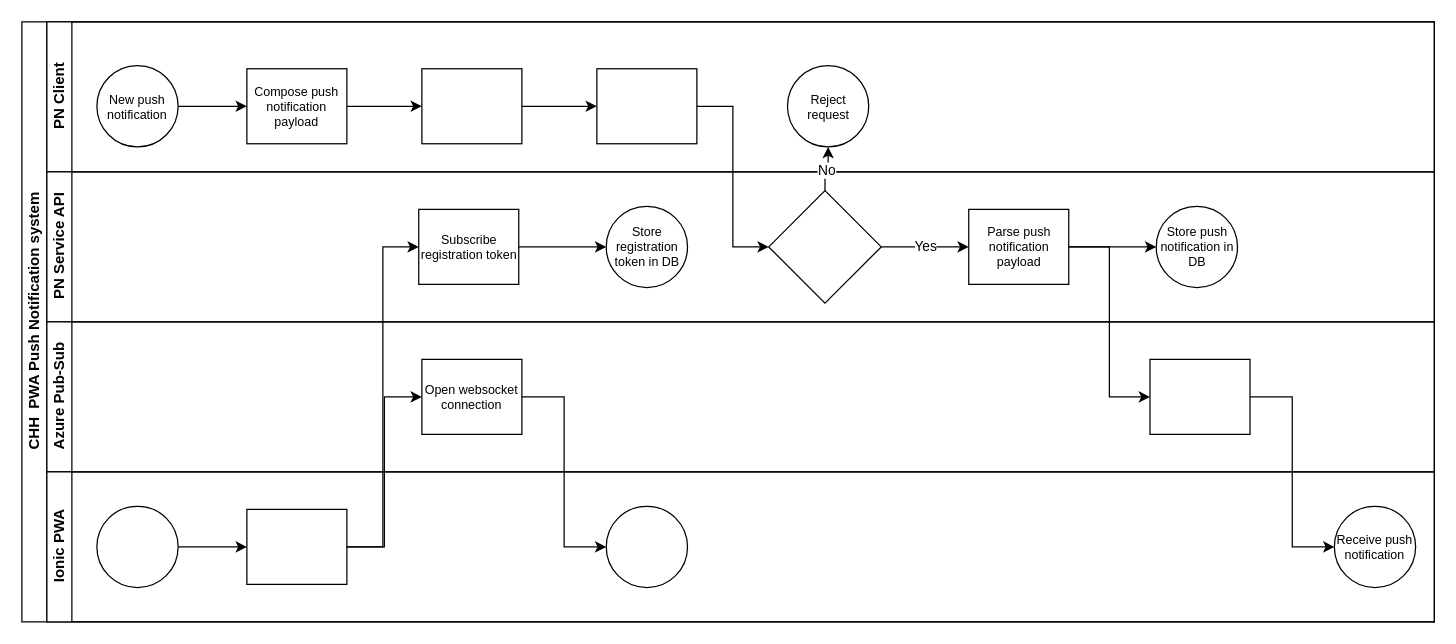
This 1456x644 diagram has some shape labels left out. Each missing label, with the centre of its shape:
Emit push notification event: the point at 1199,396
Enable push notifications: the point at 137,546
Generate registration token: the point at 296,546
Is authenticated?: the point at 824,246
Listen for push notification event: the point at 646,546
Req POST push notification: the point at 646,106
Select push notification target(s): the point at 471,106
